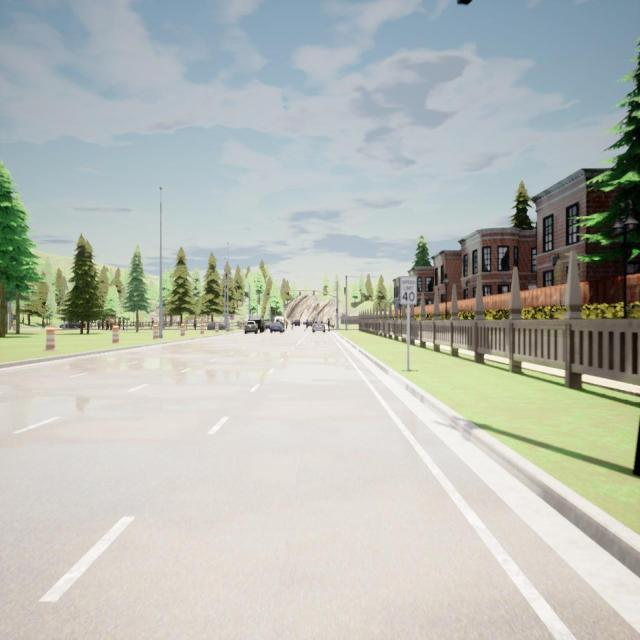Pedestrian: (193, 316, 197, 331), (110, 317, 114, 331), (290, 318, 294, 331), (101, 319, 105, 331), (151, 316, 154, 331), (122, 316, 125, 331), (106, 318, 109, 331), (118, 317, 121, 330), (306, 318, 308, 334), (328, 318, 330, 331), (98, 319, 100, 330), (286, 320, 288, 330)
Traffic_Signs: (401, 276, 417, 304)
Vehicle: (248, 314, 264, 333), (59, 321, 86, 329), (207, 320, 227, 330), (245, 321, 258, 335), (312, 321, 326, 334), (270, 321, 283, 334), (263, 320, 271, 330), (274, 316, 284, 322), (294, 320, 300, 327), (307, 320, 312, 328), (302, 320, 306, 326)
traffic_light: (344, 287, 346, 294), (299, 290, 301, 296), (336, 308, 338, 313), (288, 290, 289, 296), (314, 290, 314, 296)
